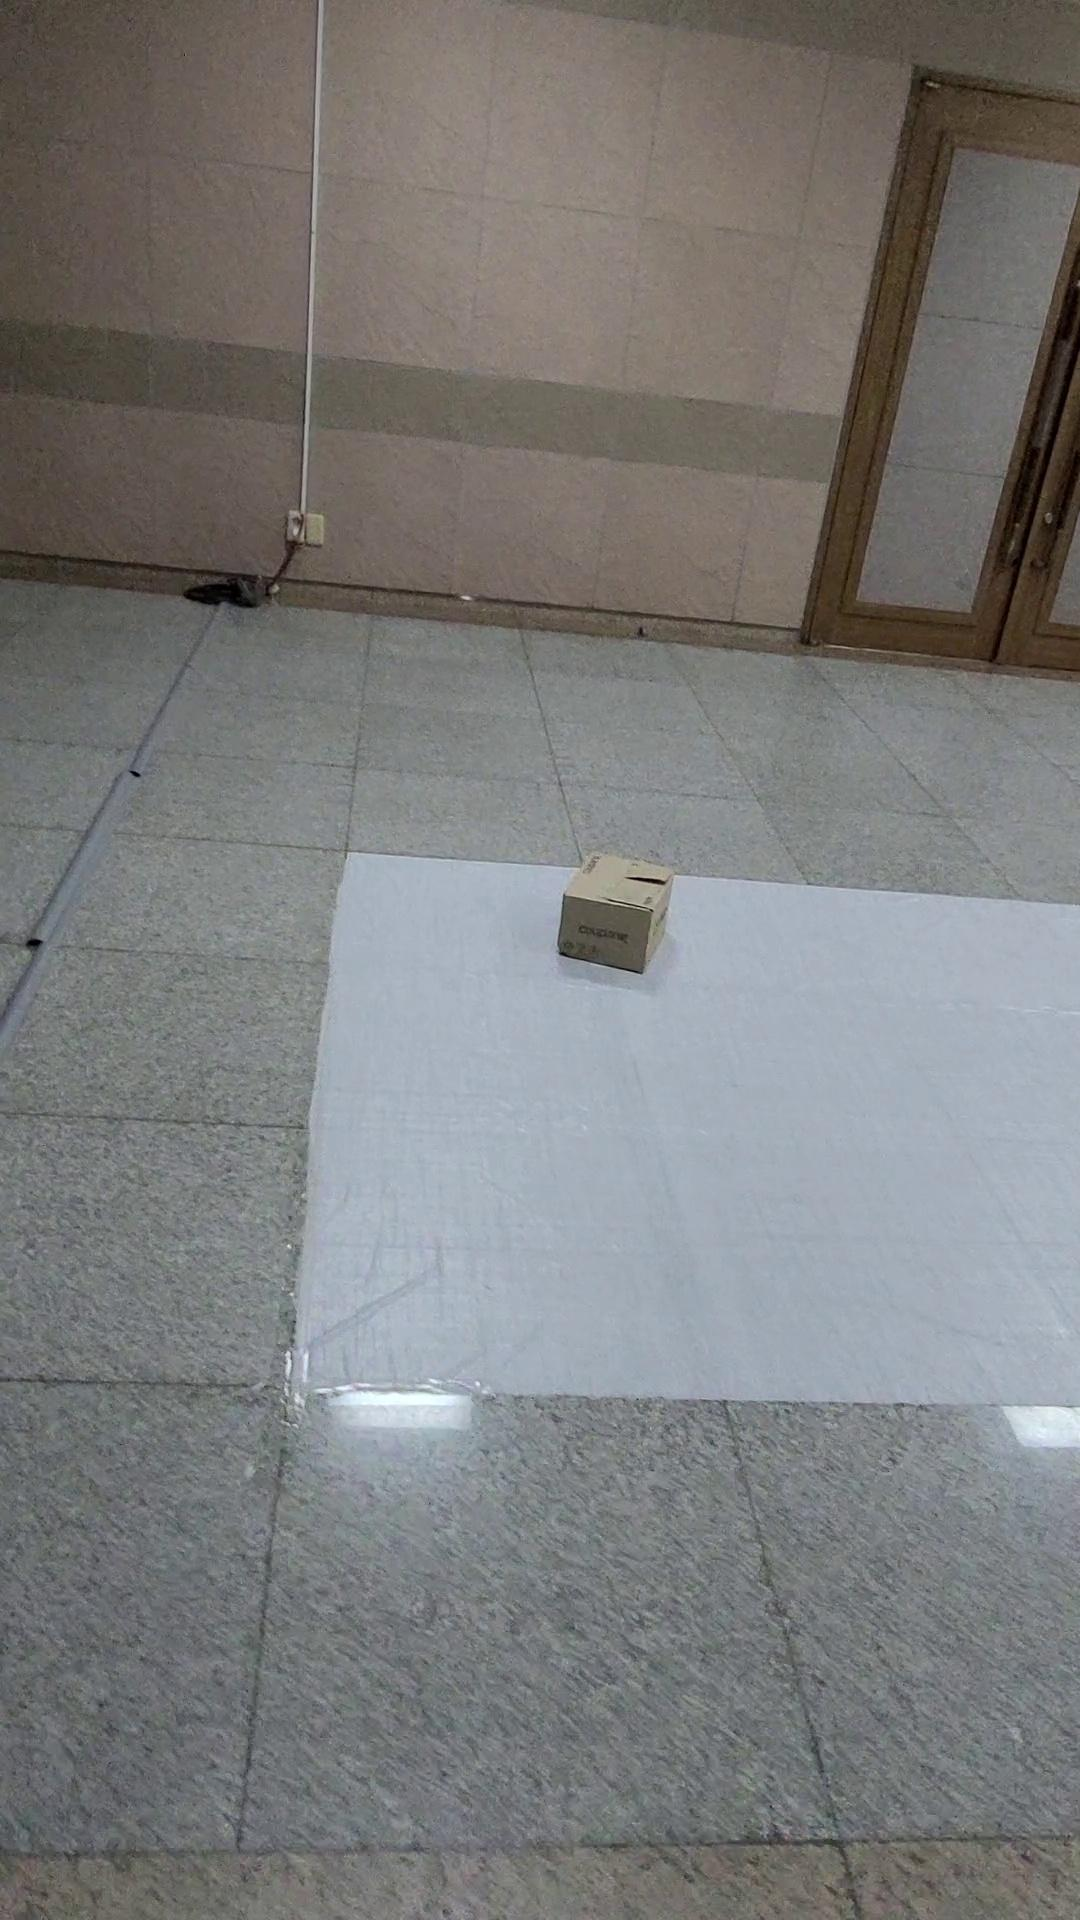Box: (531, 835, 712, 990)
